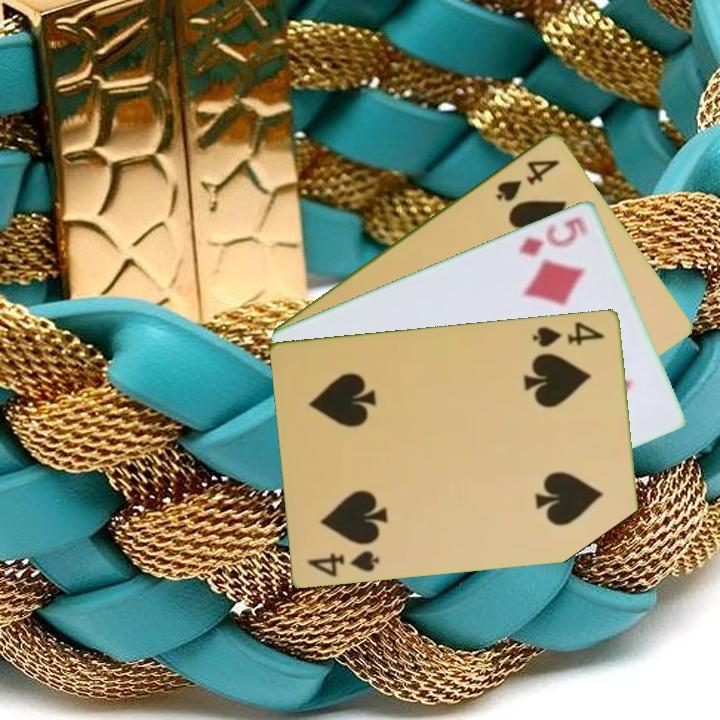4s: (492, 155, 563, 204), (305, 546, 383, 579), (529, 318, 608, 350)
5d: (515, 213, 591, 259)
